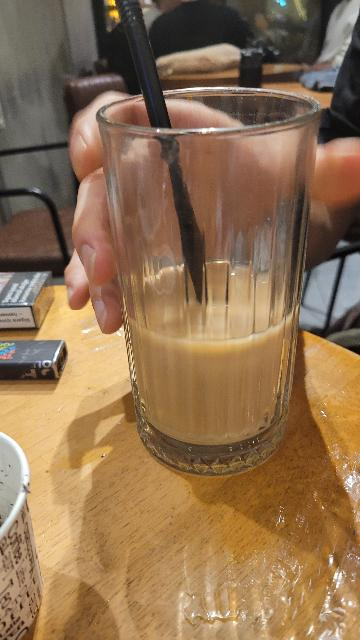Cam: (71, 97, 314, 481)
Kagit: (0, 411, 64, 640)
Plastik: (115, 1, 207, 309), (0, 263, 56, 334)
